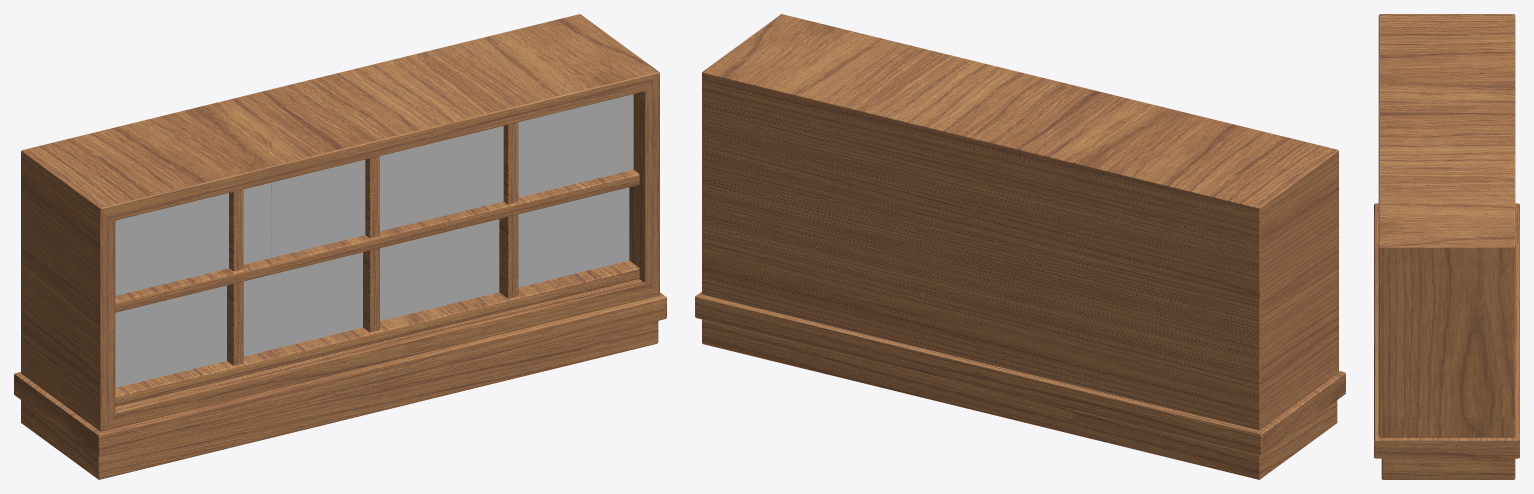
The model's file is SM_bookshelf_03.fbx.
The picture shows the model from 3 angles, left to right: view 1: azimuth 30°, elevation 25°; view 2: azimuth 150°, elevation 25°; view 3: azimuth 270°, elevation 25°; orthographic projection. The views are drawn at different scales.
Visible parts, largest first — view 1: bookshelf03; view 2: bookshelf03; view 3: bookshelf03.
Part boxes in pixels (box(x1,y1,x2,y2)): bookshelf03: box(14, 14, 666, 479); bookshelf03: box(695, 14, 1345, 479); bookshelf03: box(1374, 14, 1519, 479).
Bounding box in the file's own units: 94.43 × 43.4 × 24.55.
